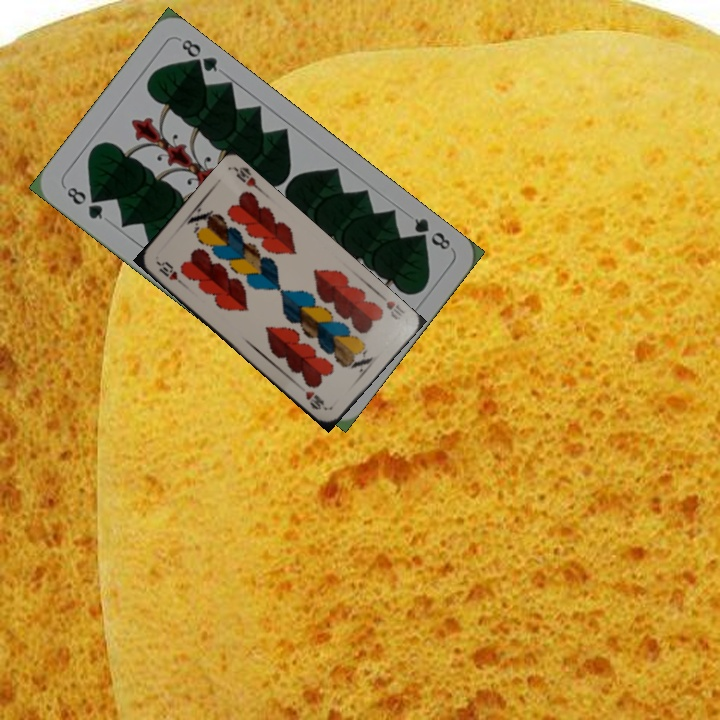G8: (408, 214, 453, 253), (62, 183, 106, 222)
H10: (374, 289, 407, 322), (152, 257, 186, 288)
